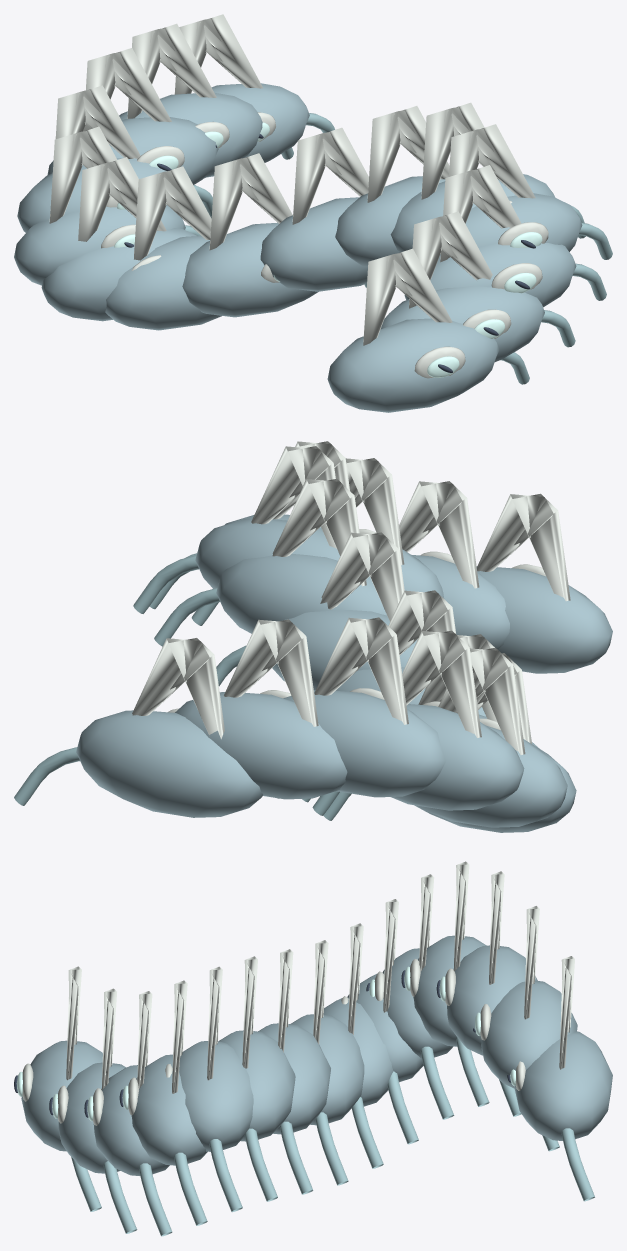
The model's file is bio_ribbon_colony_07_far.glb.
The picture shows the model from 3 angles, top to bottom: view 1: azimuth 30°, elevation 25°; view 2: azimuth 150°, elevation 25°; view 3: azimuth 270°, elevation 25°; orthographic projection. The views are drawn at different scales.
Parts seen in each view (by area): view 1: Overlapping folded ribbon, Overlapping folded ribbon.007, Overlapping folded ribbon.006, Overlapping folded ribbon.008, Overlapping folded ribbon.009, Raised pleated edge, Overlapping folded ribbon.010, Overlapping folded ribbon.001, Overlapping folded ribbon.002, Overlapping folded ribbon.005, Raised pleated edge.007, Raised pleated edge.008 (+21 smaller); view 2: Overlapping folded ribbon.014, Overlapping folded ribbon.013, Overlapping folded ribbon.012, Overlapping folded ribbon, Overlapping folded ribbon.005, Overlapping folded ribbon.011, Raised pleated edge.012, Raised pleated edge, Raised pleated edge.013, Raised pleated edge.014, Raised pleated edge.001, Overlapping folded ribbon.010 (+19 smaller); view 3: Overlapping folded ribbon.014, Overlapping folded ribbon.004, Overlapping folded ribbon.013, Overlapping folded ribbon.003, Overlapping folded ribbon.012, Overlapping folded ribbon.005, Overlapping folded ribbon, Overlapping folded ribbon.006, Overlapping folded ribbon.007, Overlapping folded ribbon.002, Overlapping folded ribbon.001, Overlapping folded ribbon.011 (+31 smaller).
Boxes of the visible parts, x1,y1,x2,y2 form: Overlapping folded ribbon: [327, 318, 499, 412]; Overlapping folded ribbon.007: [182, 222, 318, 317]; Overlapping folded ribbon.006: [260, 197, 367, 291]; Overlapping folded ribbon.008: [105, 236, 221, 330]; Overlapping folded ribbon.009: [41, 228, 196, 321]; Raised pleated edge: [363, 248, 465, 378]; Overlapping folded ribbon.010: [14, 205, 185, 285]; Overlapping folded ribbon.001: [380, 286, 544, 361]; Overlapping folded ribbon.002: [404, 243, 576, 307]; Overlapping folded ribbon.005: [335, 176, 445, 266]; Raised pleated edge.007: [209, 153, 292, 282]; Raised pleated edge.008: [134, 166, 211, 260]; Overlapping folded ribbon.014: [76, 710, 262, 817]; Overlapping folded ribbon.013: [175, 692, 347, 799]; Overlapping folded ribbon.012: [283, 690, 445, 797]; Overlapping folded ribbon: [476, 566, 612, 673]; Overlapping folded ribbon.005: [216, 554, 386, 633]; Overlapping folded ribbon.011: [391, 704, 524, 810]; Raised pleated edge.012: [314, 617, 408, 724]; Raised pleated edge: [477, 493, 570, 601]; Raised pleated edge.013: [224, 619, 318, 726]; Raised pleated edge.014: [132, 638, 224, 739]; Raised pleated edge.001: [399, 481, 479, 588]; Overlapping folded ribbon.010: [415, 725, 567, 827]; Overlapping folded ribbon.014: [514, 1031, 612, 1140]; Overlapping folded ribbon.004: [179, 1041, 253, 1151]; Overlapping folded ribbon.013: [481, 980, 577, 1088]; Overlapping folded ribbon.003: [131, 1054, 207, 1165]; Overlapping folded ribbon.012: [447, 945, 537, 1055]; Overlapping folded ribbon.005: [219, 1030, 295, 1141]; Overlapping folded ribbon: [21, 1040, 102, 1151]; Overlapping folded ribbon.006: [258, 1023, 330, 1134]; Overlapping folded ribbon.007: [291, 1014, 364, 1125]; Overlapping folded ribbon.002: [93, 1065, 169, 1175]; Overlapping folded ribbon.001: [58, 1062, 125, 1173]; Overlapping folded ribbon.011: [413, 935, 486, 1046].
Size of the model in its own units: 2.81 by 1.32 by 3.04.
